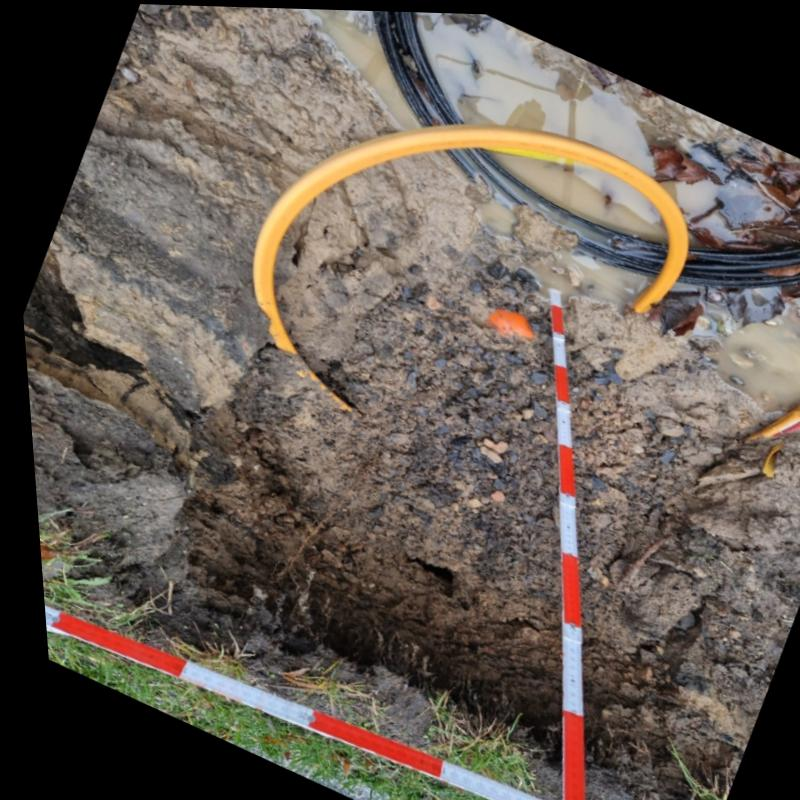Kugelmarker: (485, 307, 527, 335)
